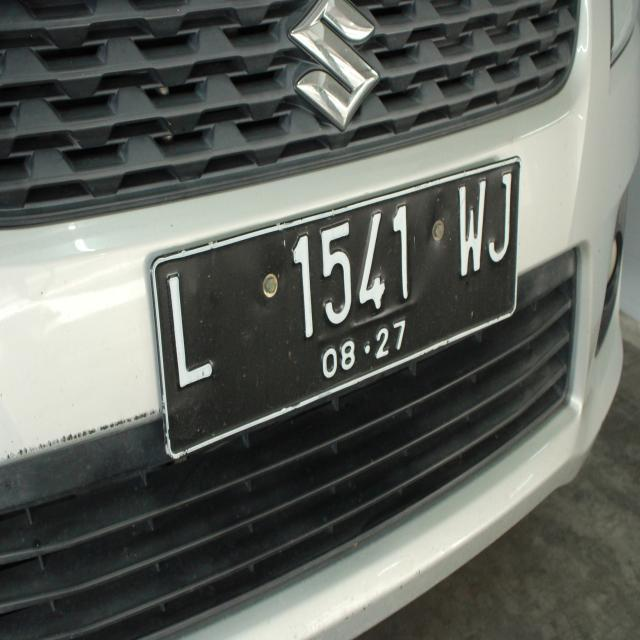1: (282, 233, 325, 347), (384, 193, 416, 307)
4: (353, 200, 393, 318)
5: (314, 214, 359, 330)
J: (485, 157, 517, 270)
L: (162, 255, 230, 405)
W: (448, 172, 492, 286)
